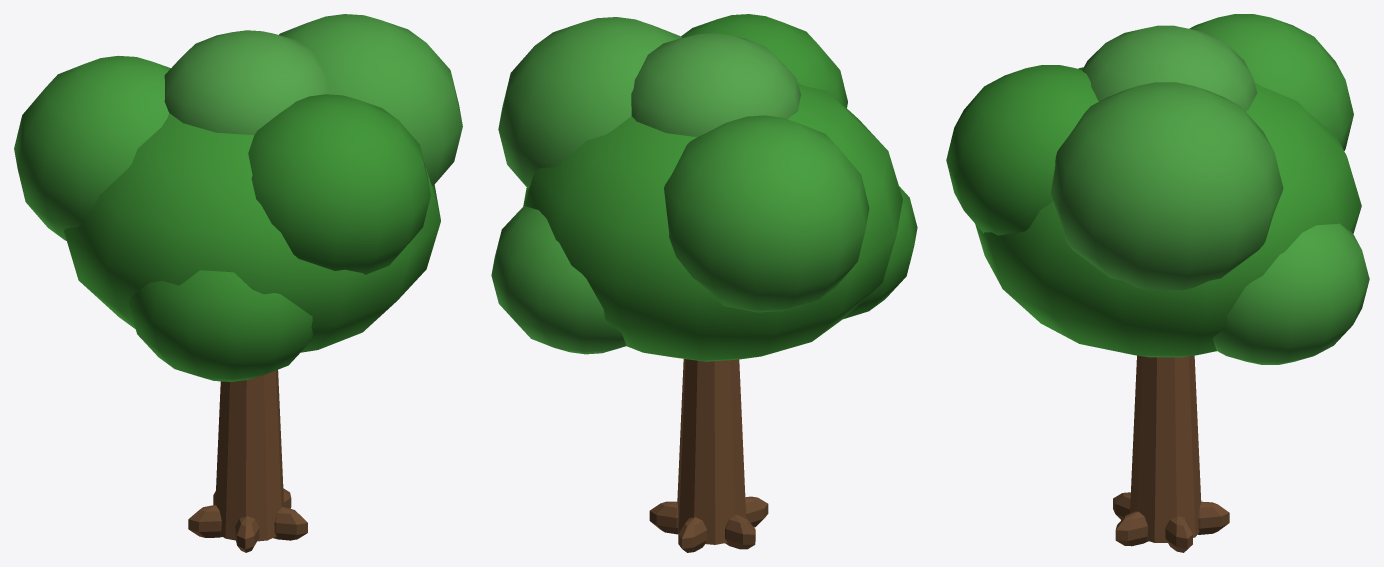
The model's file is Planta_Apple.fbx.
3 views of the same model, side by side, from view 1: azimuth 30°, elevation 25°; view 2: azimuth 150°, elevation 25°; view 3: azimuth 270°, elevation 25° (orthographic).
Visible parts, largest first — view 1: Corpo_Apple; view 2: Corpo_Apple; view 3: Corpo_Apple.
Part boxes in pixels (bbox=[...]): Corpo_Apple: bbox=[14, 14, 462, 552]; Corpo_Apple: bbox=[491, 14, 917, 552]; Corpo_Apple: bbox=[946, 14, 1369, 552].
Size of the model in its own units: 5.06 by 6.33 by 4.86.
Materials: 1 (1 with a texture image).
